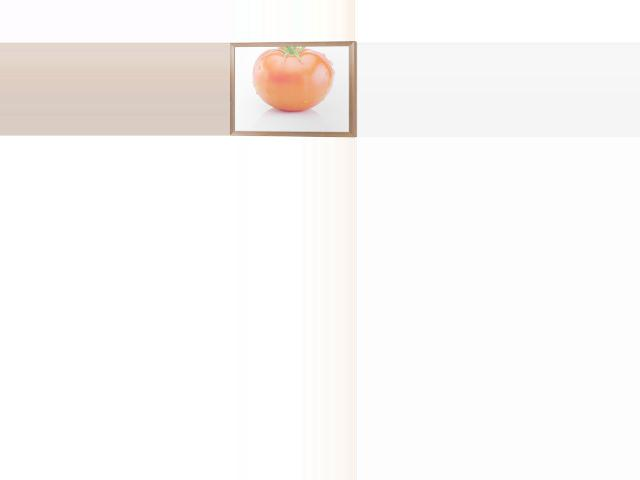tomato: (253, 46, 334, 112)
